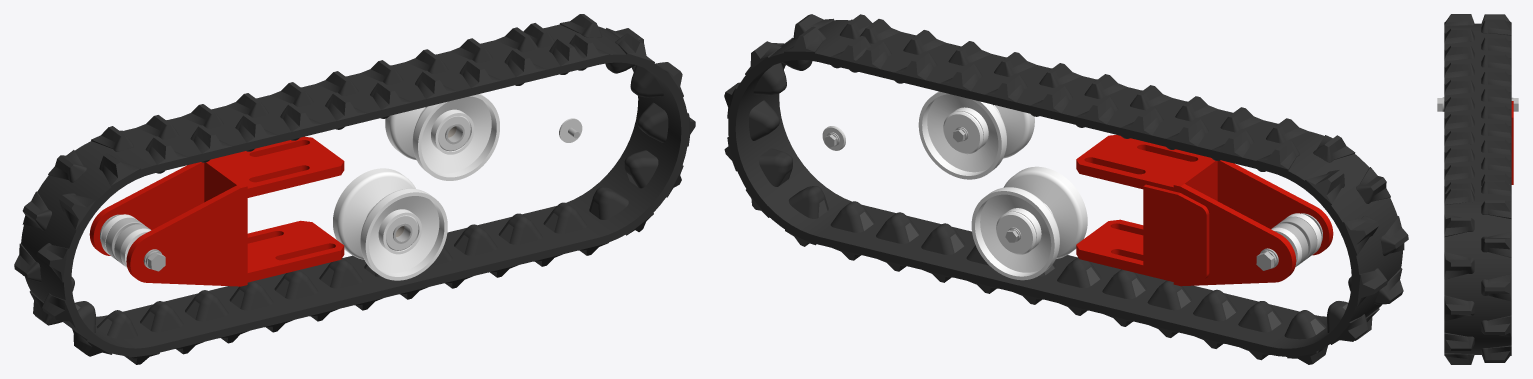
Rendered from left_track.dae.
3 views of the same model, side by side, from view 1: azimuth 30°, elevation 25°; view 2: azimuth 150°, elevation 25°; view 3: azimuth 270°, elevation 25° (orthographic). The views are drawn at different scales.
Parts seen in each view (by area): view 1: _3DGeom-1163, Body_1 (×5), _3DGeom-1164; view 2: _3DGeom-1163, Body_1 (×5), _3DGeom-1164; view 3: _3DGeom-1163, Body_1 (×3).
Part boxes in pixels (x1,y1,x2,y2): _3DGeom-1163: (14, 14, 695, 364); Body_1 (×5): (89, 94, 499, 286); _3DGeom-1164: (75, 173, 637, 334); _3DGeom-1163: (724, 14, 1408, 364); Body_1 (×5): (918, 91, 1333, 286); _3DGeom-1164: (779, 171, 1347, 334); _3DGeom-1163: (1444, 14, 1511, 364); Body_1 (×3): (1437, 98, 1518, 184).
Size of the model in its own units: 0.8656 by 0.121 by 0.271.
